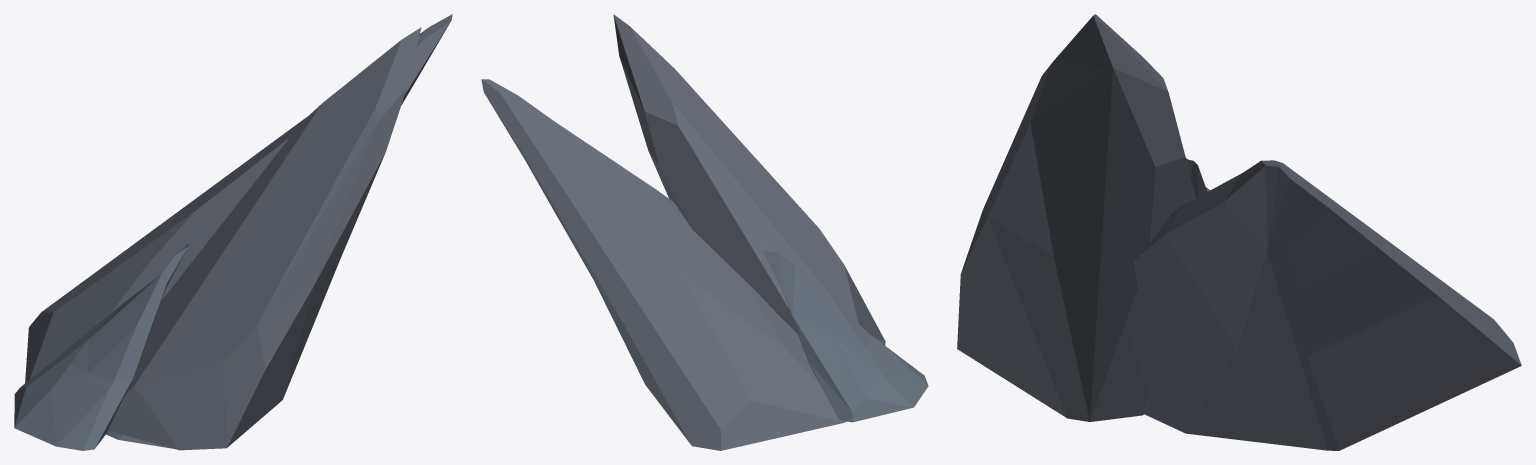
File: Rocks_Sharp_l_01.fbx
3 views of the same model, side by side, from view 1: azimuth 30°, elevation 25°; view 2: azimuth 150°, elevation 25°; view 3: azimuth 270°, elevation 25° (orthographic). The views are drawn at different scales.
Parts seen in each view (by area): view 1: Rocks_Sharp_l_01; view 2: Rocks_Sharp_l_01; view 3: Rocks_Sharp_l_01.
Boxes of the visible parts, x1=… form: Rocks_Sharp_l_01: x1=14, y1=14, x2=452, y2=450; Rocks_Sharp_l_01: x1=481, y1=14, x2=928, y2=450; Rocks_Sharp_l_01: x1=957, y1=14, x2=1521, y2=450.
Bounding box in the file's own units: 1320 × 911 × 891.
